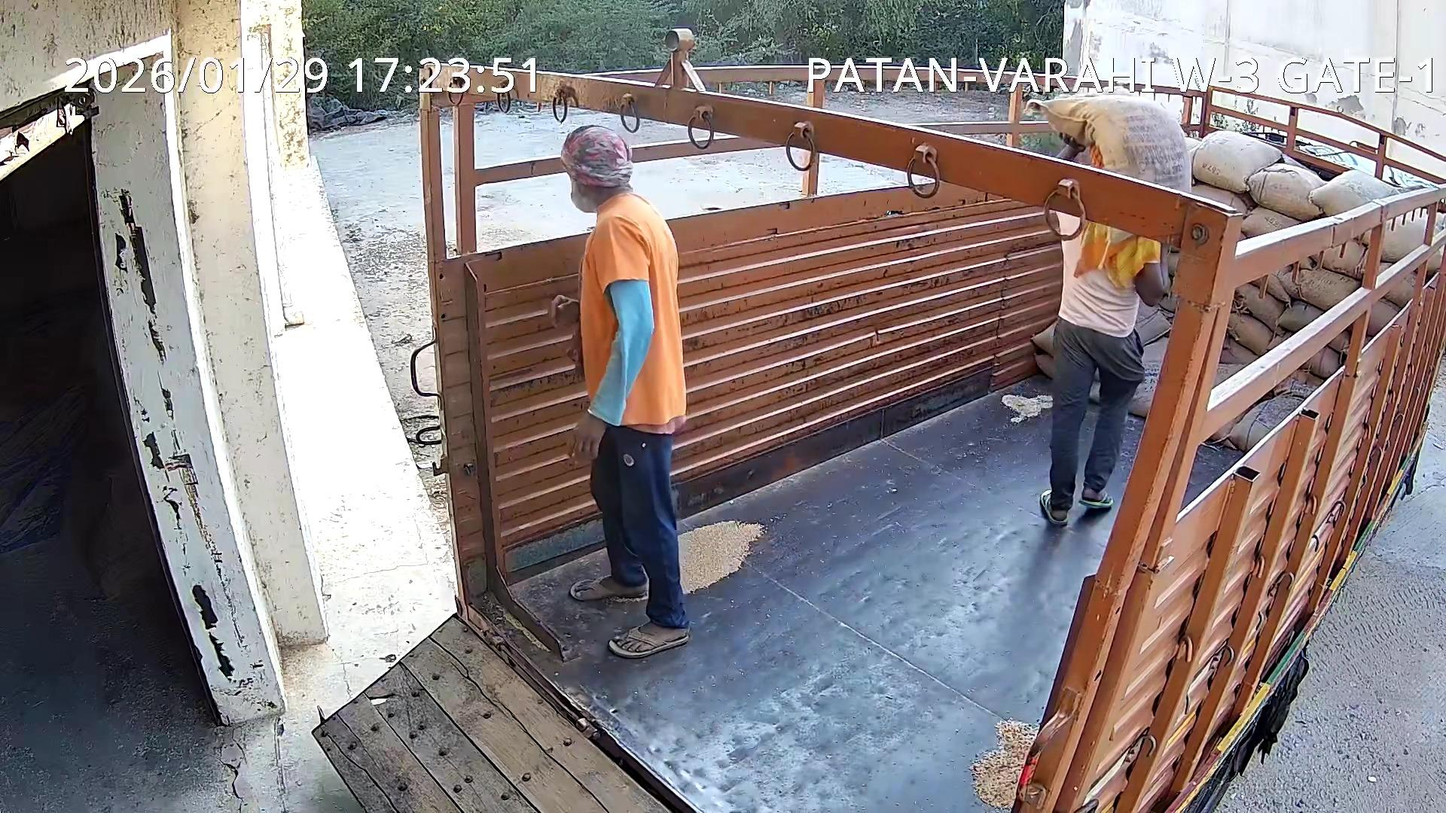Sack: (1031, 93, 1191, 191), (1095, 227, 1138, 248)
